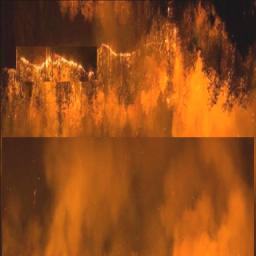Heavy smoke: (9, 89, 245, 256)
Small fire: (10, 52, 90, 84), (96, 42, 138, 63)
